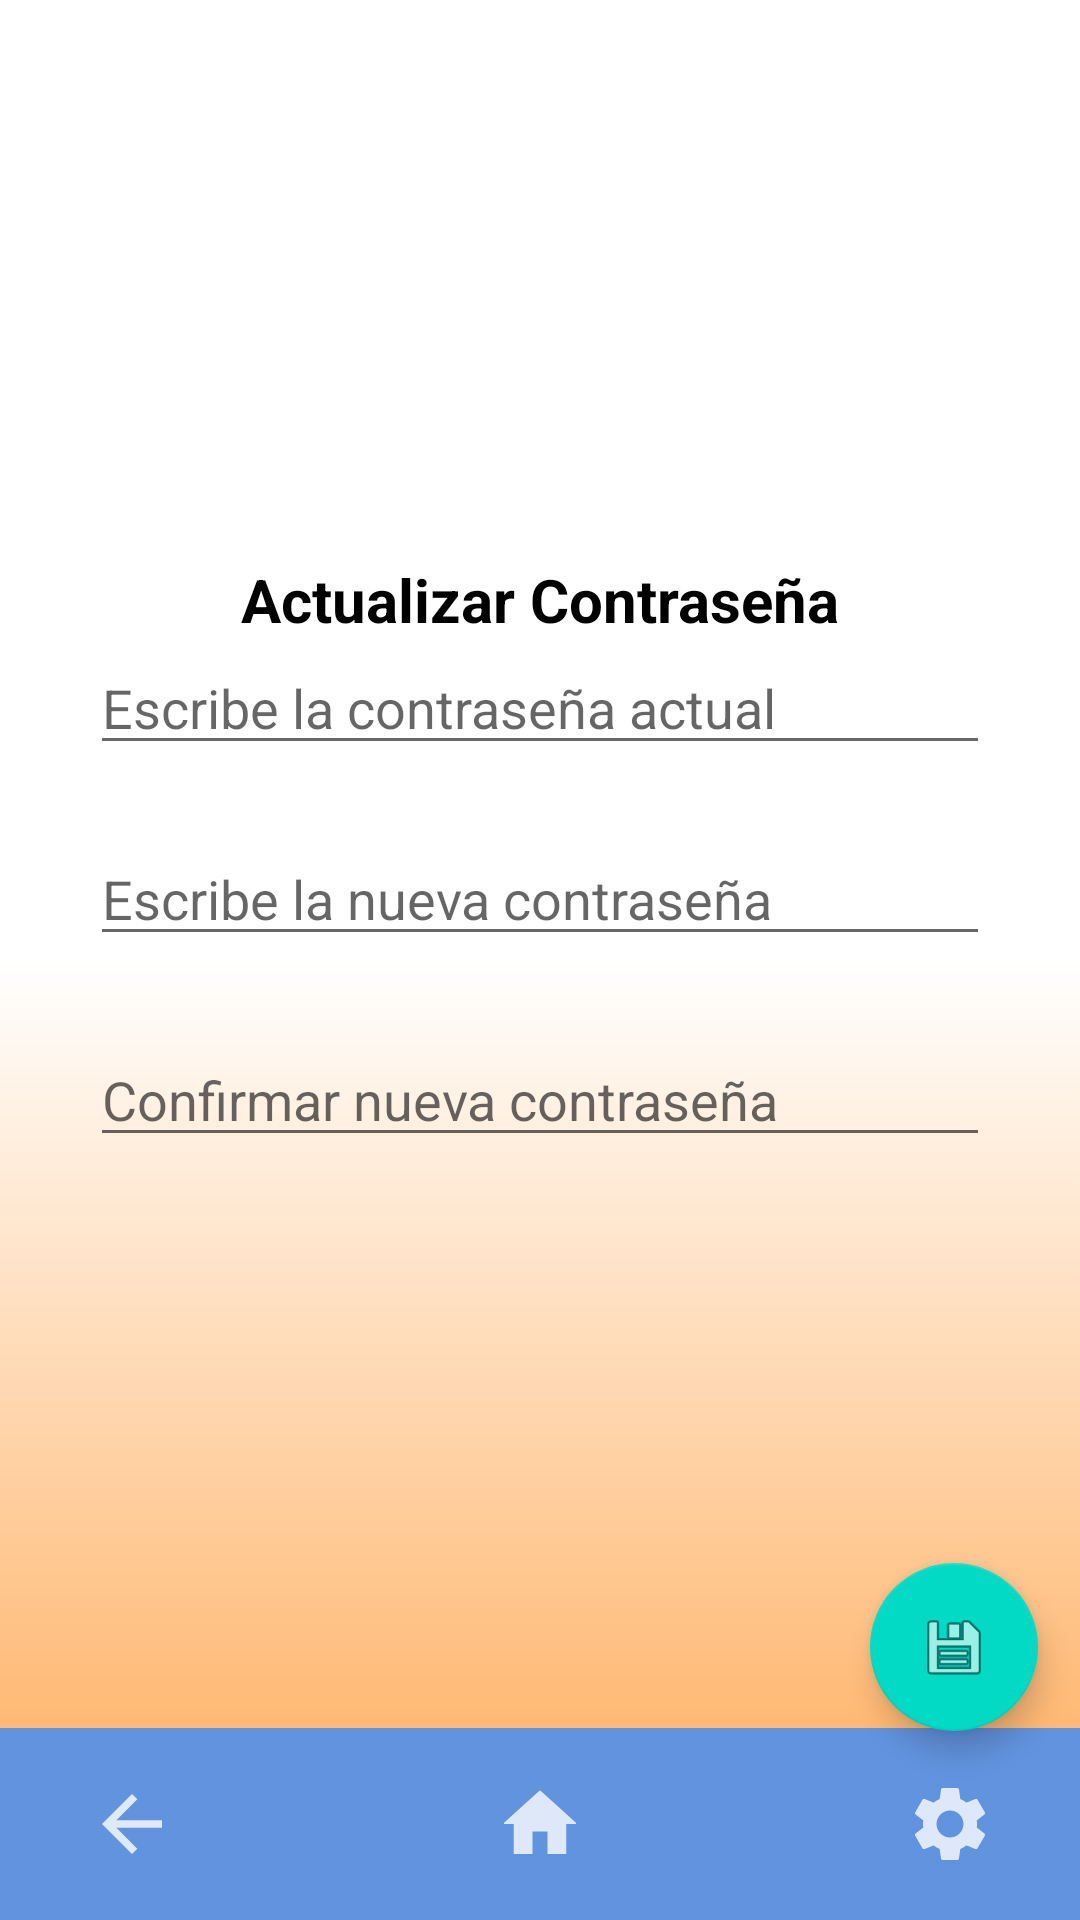

Screen size 1080w x 1920h. Icon name, then its center in pixels as point (x, y):
back: point (132, 1824)
home: point (540, 1822)
save: point (954, 1647)
settings: point (950, 1824)
